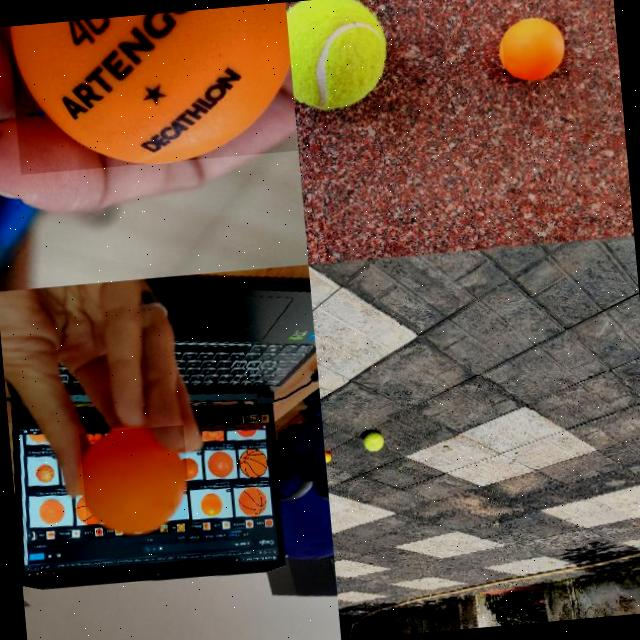ping-pong-ball: (6, 2, 298, 176), (78, 423, 192, 540), (499, 17, 569, 82), (326, 449, 332, 462)
